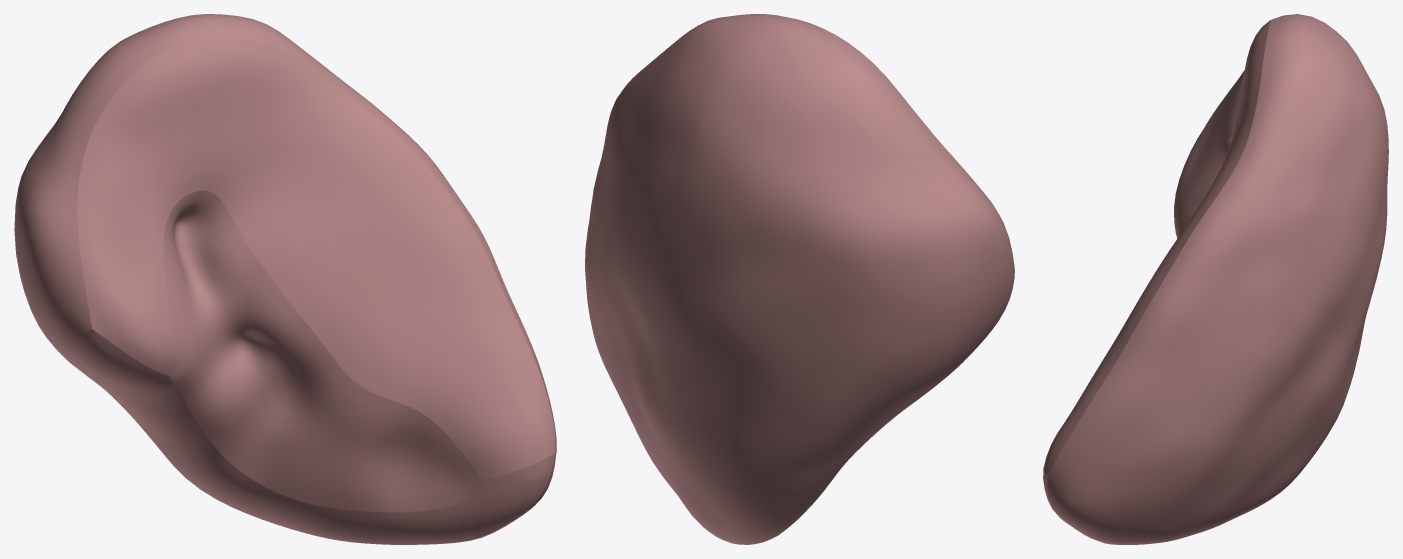
The model's file is 3d-vh-f-spleen.glb.
3 renders of one model, left to right at view 1: azimuth 30°, elevation 25°; view 2: azimuth 150°, elevation 25°; view 3: azimuth 270°, elevation 25°, orthographic. The views are drawn at different scales.
Visible parts, largest first — view 1: VH_F_gastric_surface_of_spleen, VH_F_hilum_of_spleen, VH_F_diaphragmatic_surface_of_spleen, VH_F_renal_surface_of_spleen, VH_F_colic_surface_of_spleen; view 2: VH_F_diaphragmatic_surface_of_spleen; view 3: VH_F_diaphragmatic_surface_of_spleen, VH_F_gastric_surface_of_spleen, VH_F_hilum_of_spleen.
Boxes of the visible parts, x1,y1,x2,y2 form: VH_F_gastric_surface_of_spleen: [77, 36, 555, 477]; VH_F_hilum_of_spleen: [163, 190, 479, 512]; VH_F_diaphragmatic_surface_of_spleen: [14, 14, 556, 544]; VH_F_renal_surface_of_spleen: [67, 329, 477, 544]; VH_F_colic_surface_of_spleen: [458, 453, 555, 537]; VH_F_diaphragmatic_surface_of_spleen: [585, 14, 1014, 544]; VH_F_diaphragmatic_surface_of_spleen: [1047, 14, 1388, 544]; VH_F_gastric_surface_of_spleen: [1043, 20, 1269, 475]; VH_F_hilum_of_spleen: [1177, 136, 1232, 237].
Bounding box in the file's own units: 0.0896 × 0.1023 × 0.0709.
